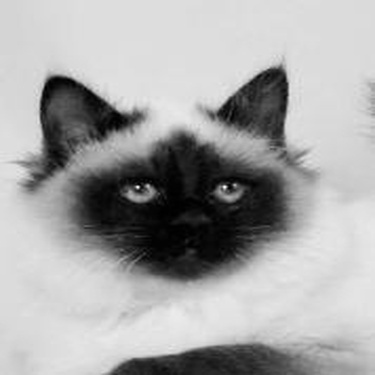cat: (13, 63, 361, 370)
